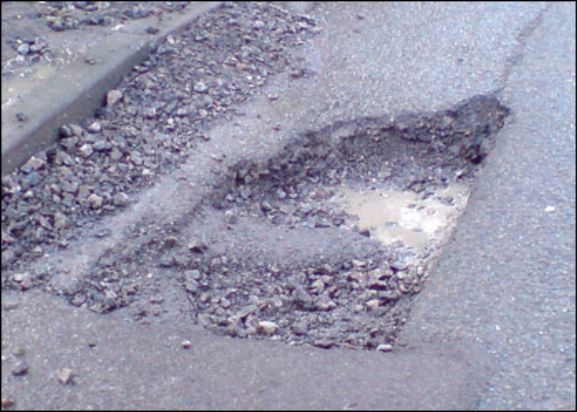pothole: (175, 89, 512, 355)
